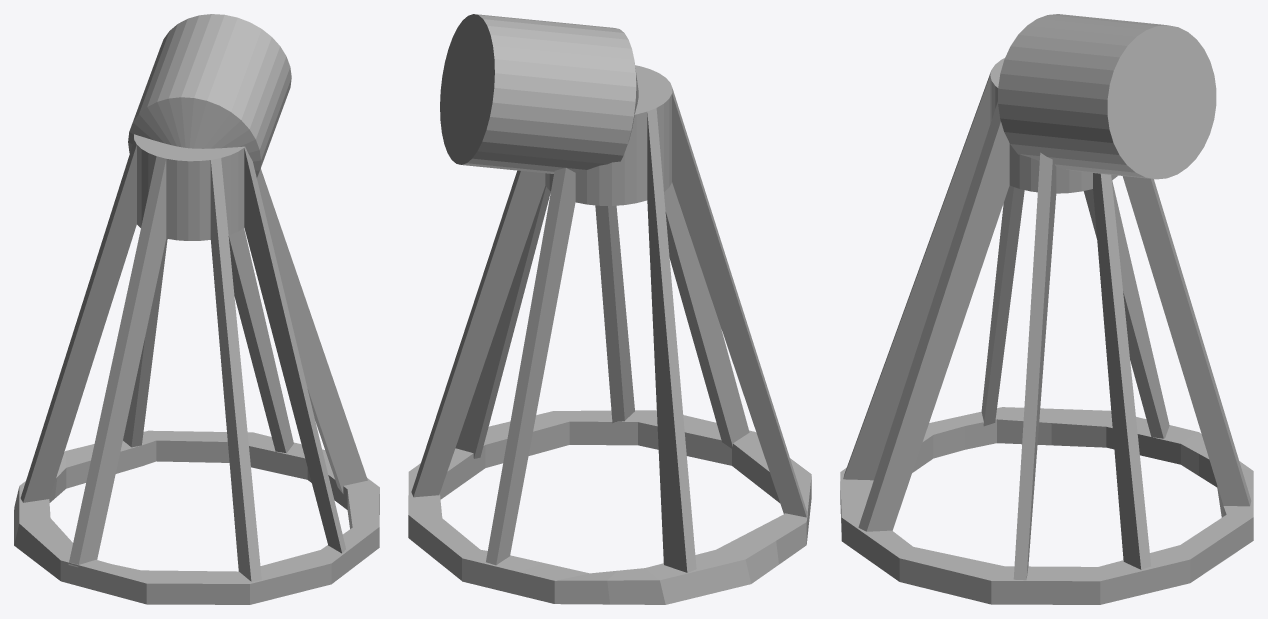
The model's file is LargeBlockRadarRynAR_Constr1.fbx.
The picture shows the model from 3 angles, left to right: view 1: azimuth 30°, elevation 25°; view 2: azimuth 150°, elevation 25°; view 3: azimuth 270°, elevation 25°; orthographic projection. The views are drawn at different scales.
Visible parts, largest first — view 1: Cylinder; view 2: Cylinder; view 3: Cylinder.
Part boxes in pixels (bbox=[...]): Cylinder: bbox=[14, 14, 379, 604]; Cylinder: bbox=[408, 14, 811, 604]; Cylinder: bbox=[840, 14, 1253, 604].
Size of the model in its own units: 2.03 by 2.86 by 2.03.
